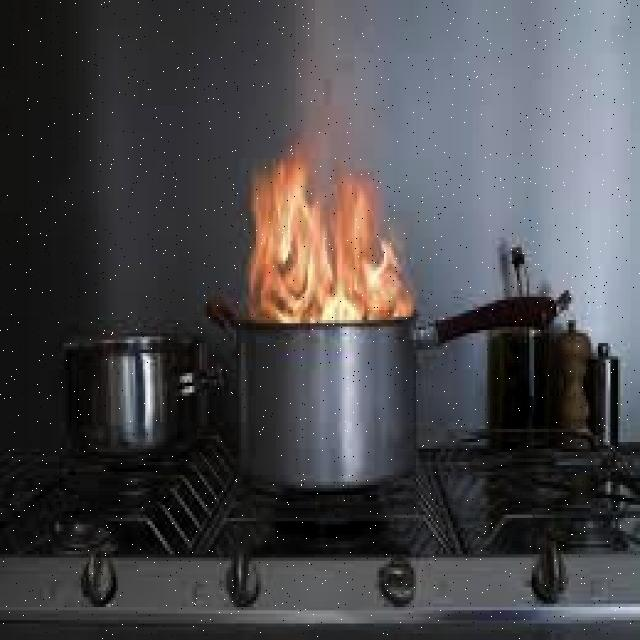fire: (249, 156, 418, 324)
